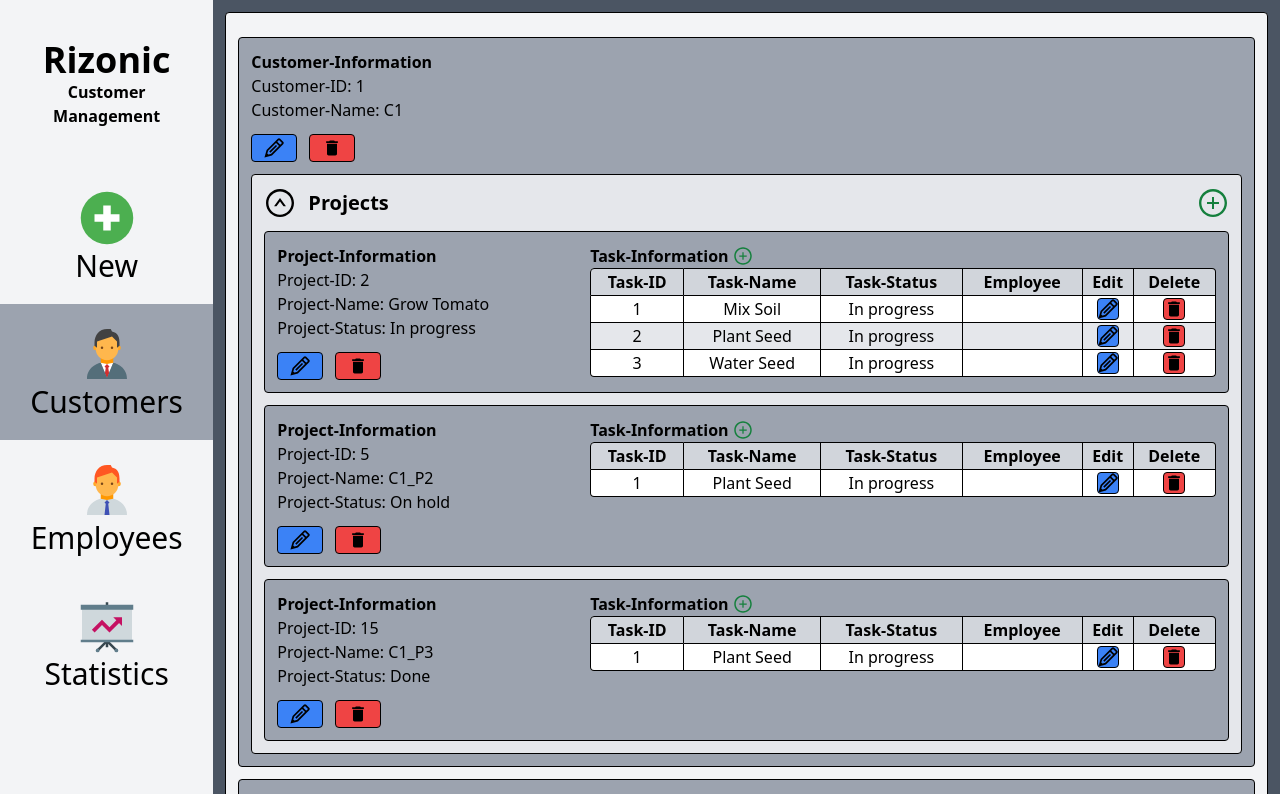
delete project › open last project modal
The image size is (1280, 794).
Click the button with test id "delete-project-icon".
click(358, 714)  # box [335,700,381,728]
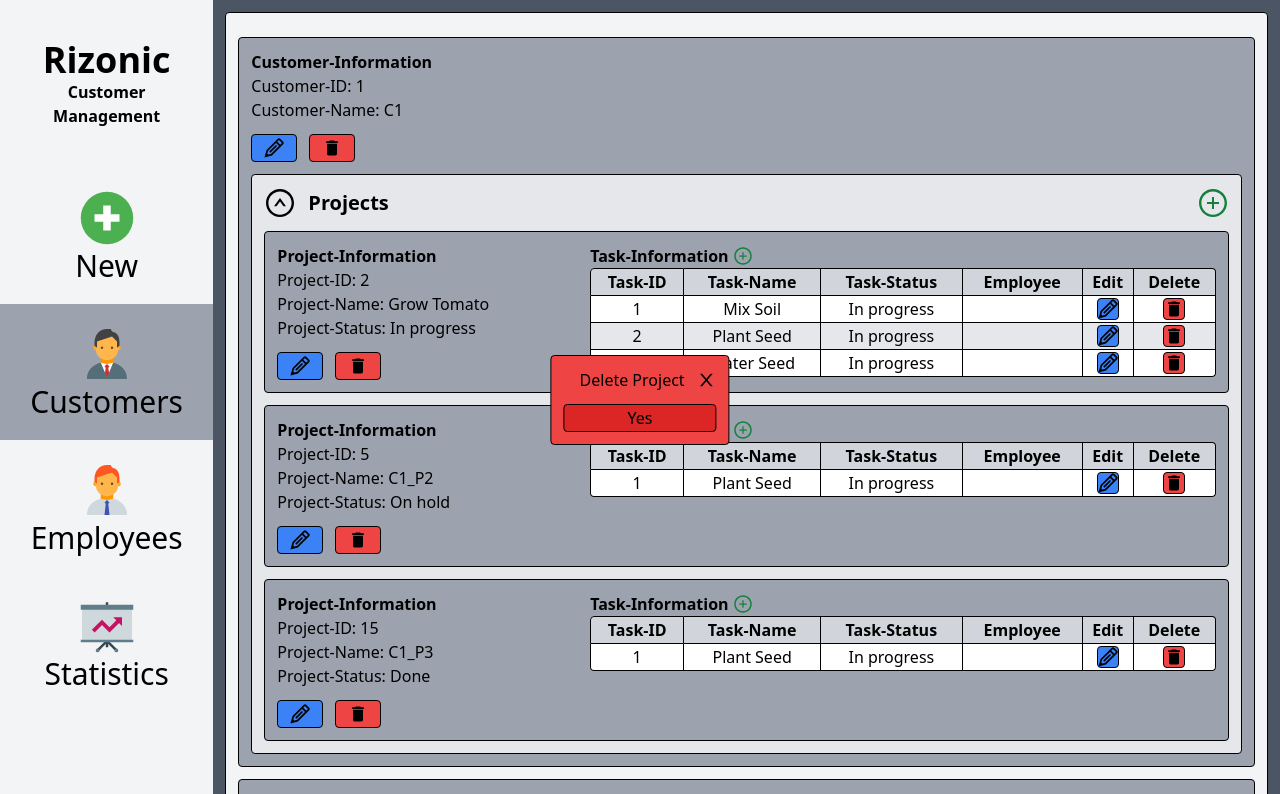
Expected: the heading "Delete Project" is shown, [580,368,685,392]
